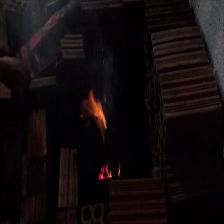fire: (82, 91, 107, 132)
